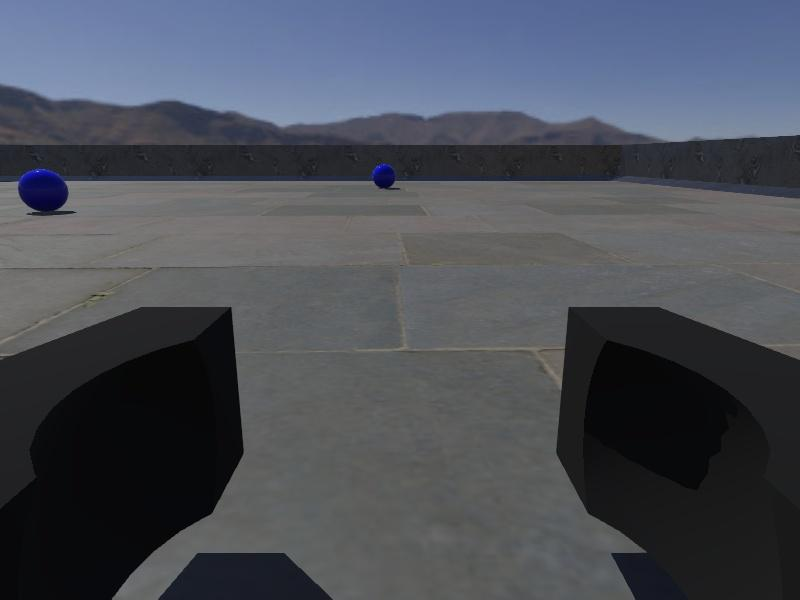blue ball: (18, 168, 69, 212), (372, 162, 398, 190)
